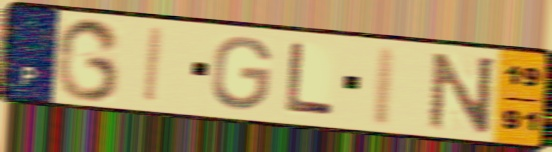G: (52, 15, 124, 104), (208, 34, 276, 113)
I: (368, 44, 401, 129), (140, 24, 168, 106)
L: (282, 40, 337, 120)
N: (426, 50, 499, 135)
